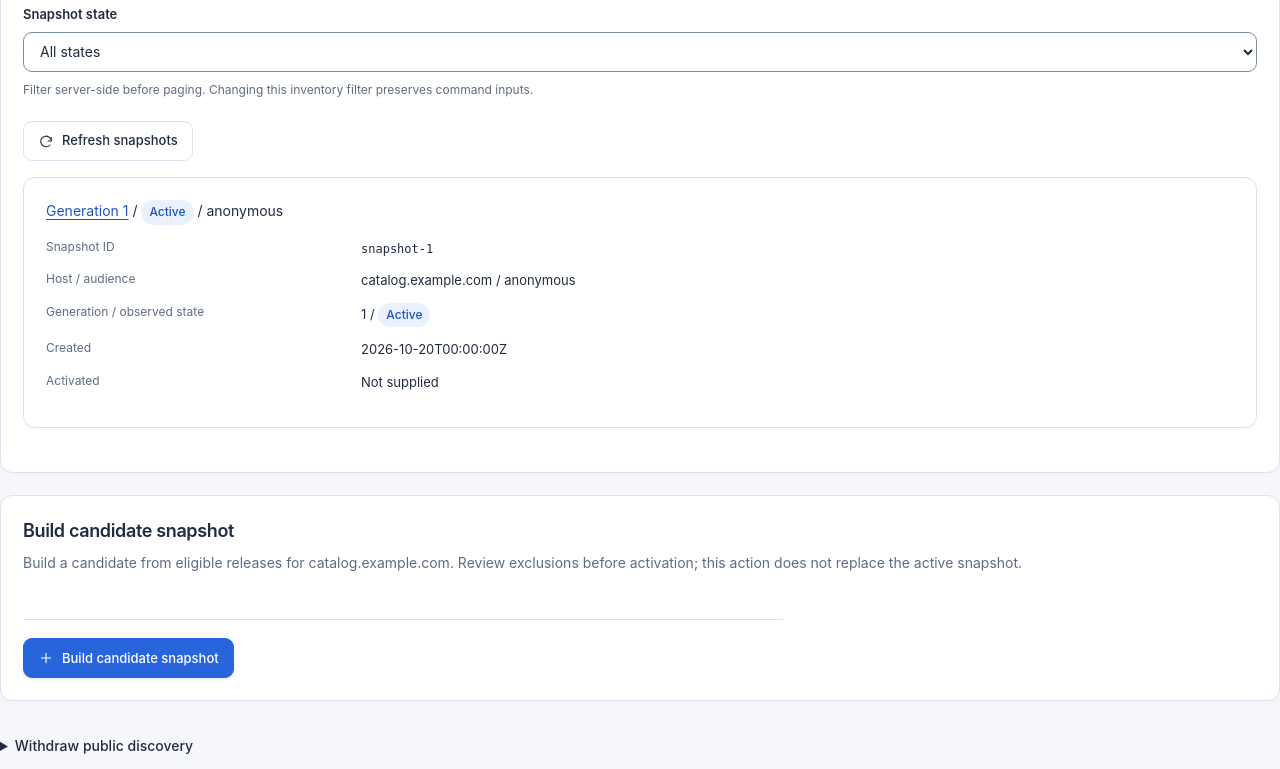
Scenario: retains the host unpublish receipt through failed readback and rearms only after a successful read
(page scrolled)
Expected: the link "Generation 1" is shown, [46, 202, 128, 219]
Click the heading "Withdraw public discovery": (104, 746) [15, 737, 193, 754]
(page scrolled)
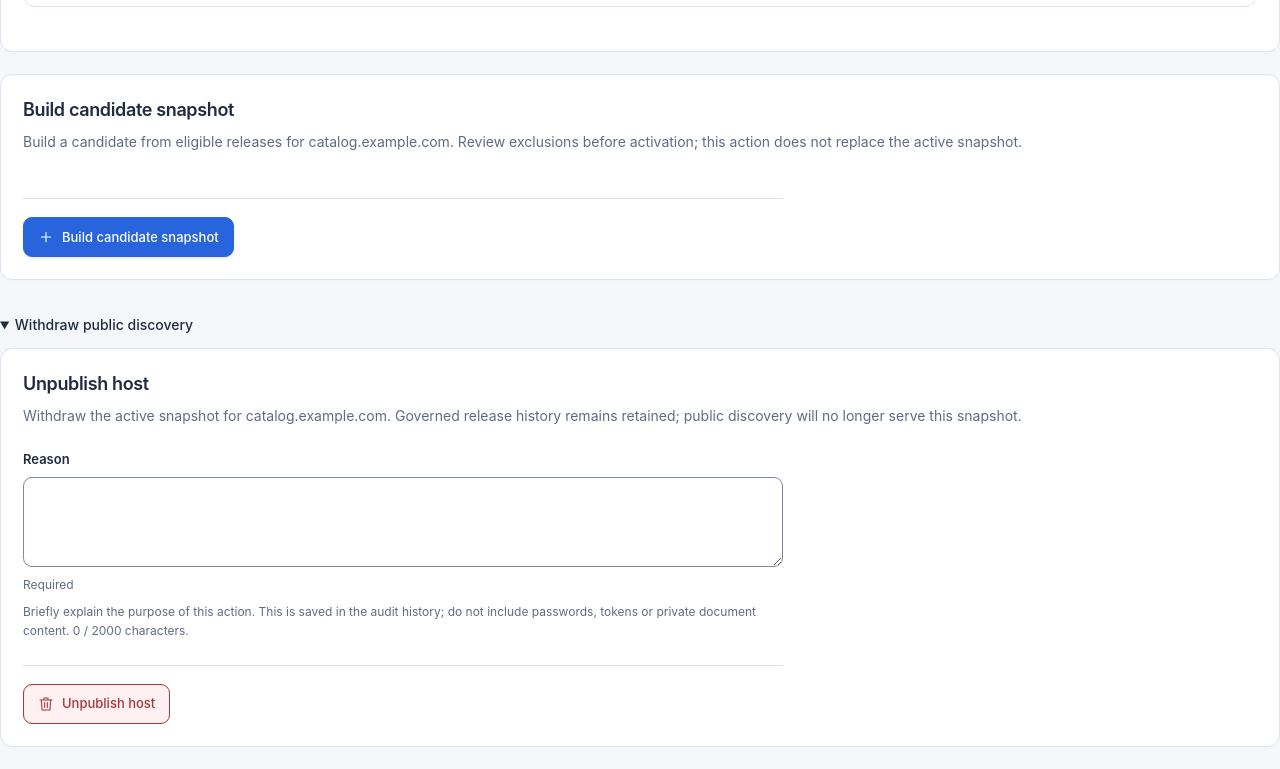
In the text box labelled "Reason": (403, 522) [23, 477, 783, 567], type "Keep the host withdrawal reason"
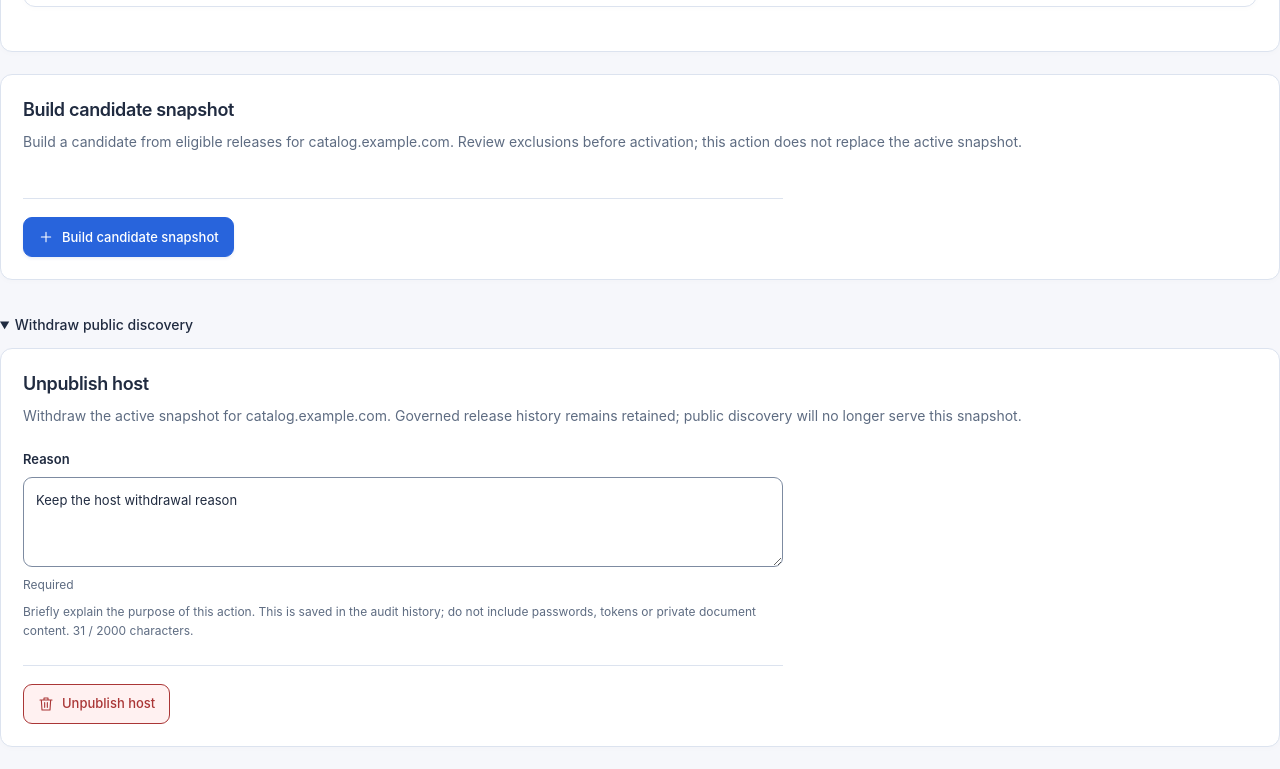
Click the button "Unpublish host": (97, 704) [23, 684, 170, 724]
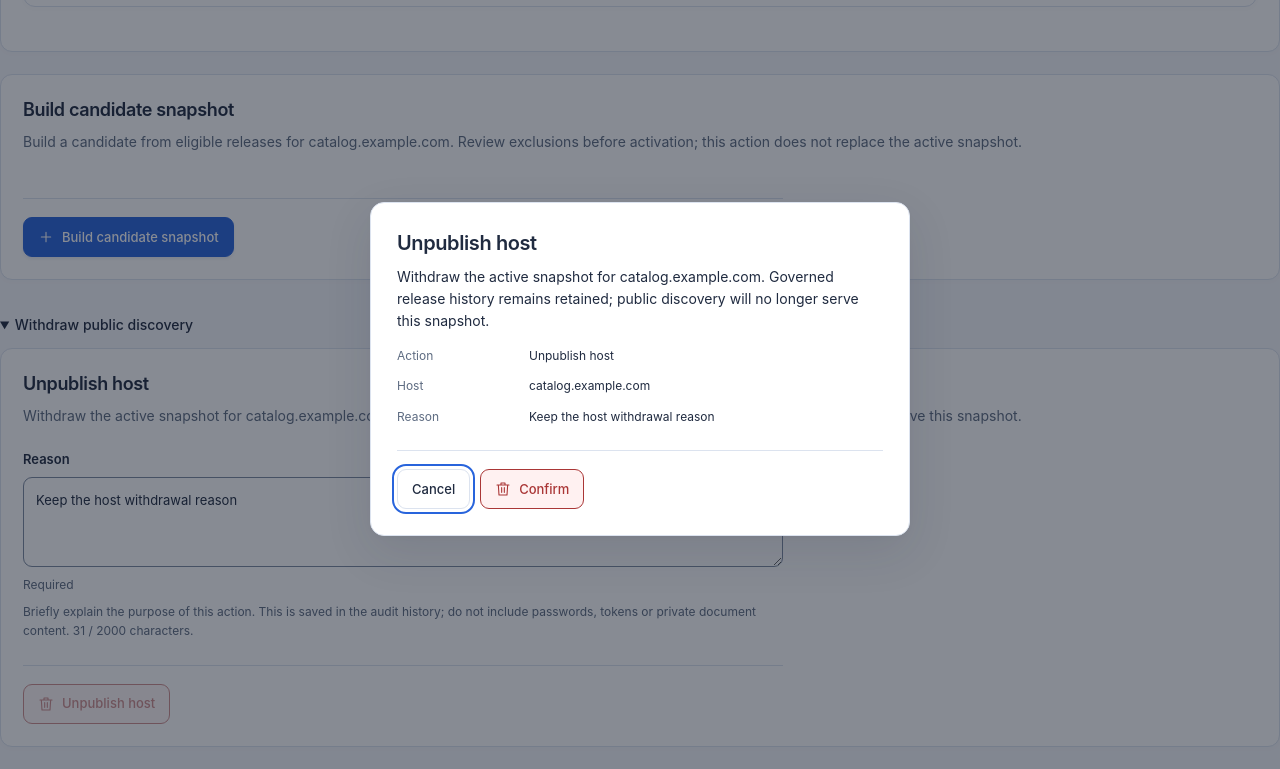
Click the button "Confirm": (532, 490) [480, 470, 584, 510]
(page scrolled)
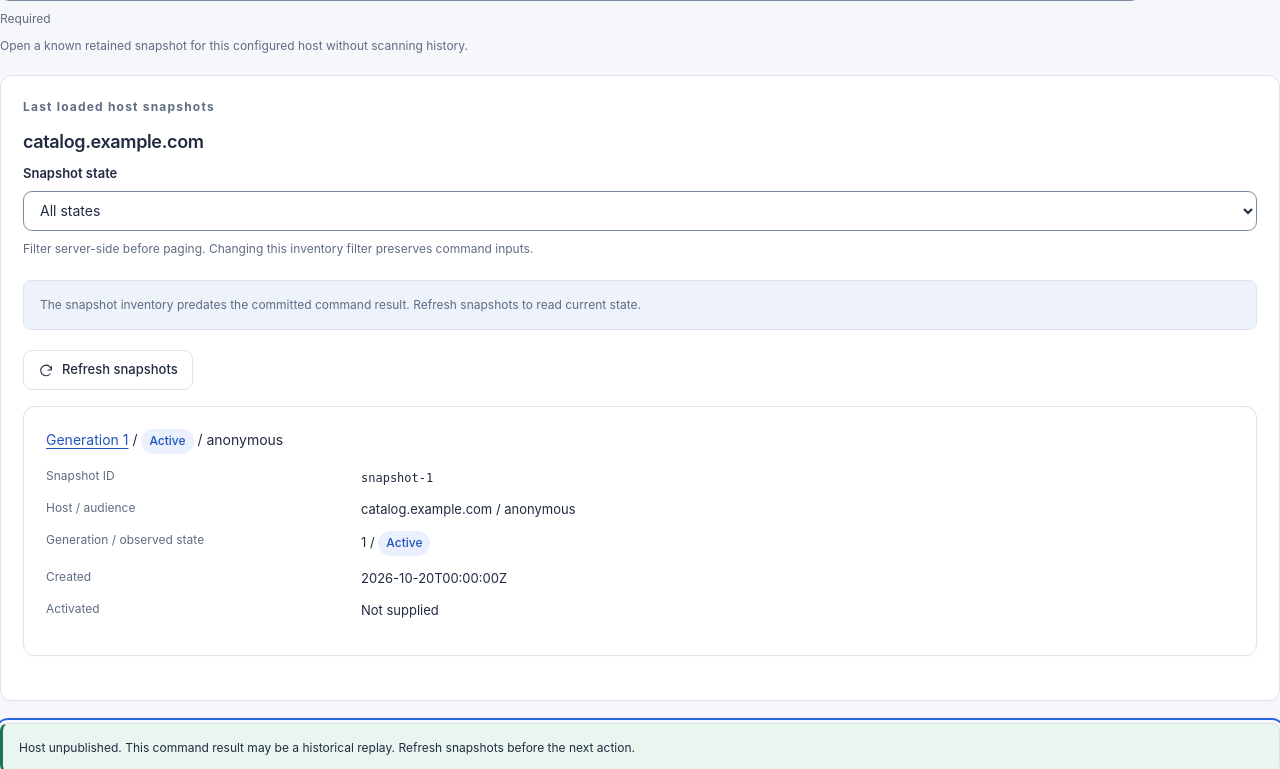
Now the text "Host unpublished." is shown, box [19, 740, 122, 756]
Now the text "snapshot inventory predates" is shown, box [40, 297, 641, 312]
Click the button "Refresh snapshots": (108, 370) [23, 350, 193, 390]
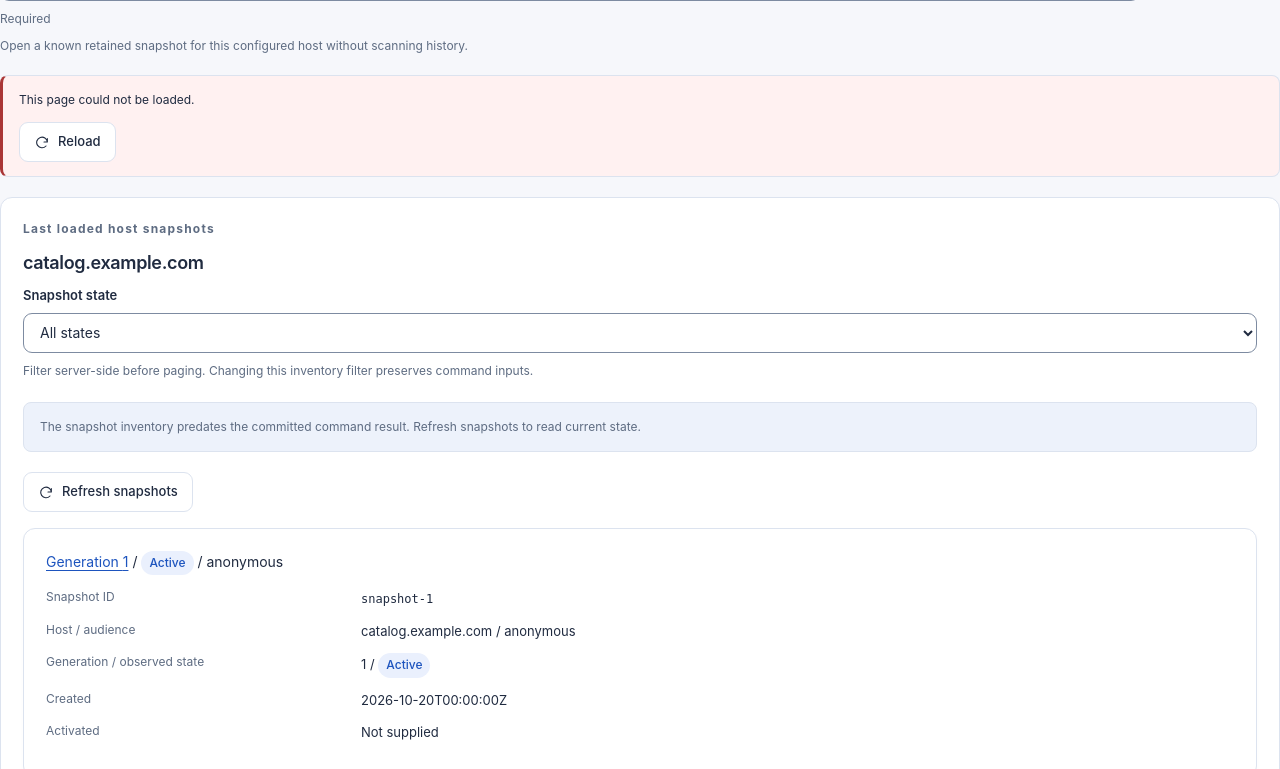
Expected: the link "Generation 1" is shown, [46, 553, 128, 570]
Now the text "snapshot inventory predates" is shown, box [40, 419, 641, 434]
Now the message "This page could not be loaded. Reload" is shown, box [0, 75, 1279, 177]
Click the button "Refresh snapshots": (108, 492) [23, 472, 193, 512]
(page scrolled)
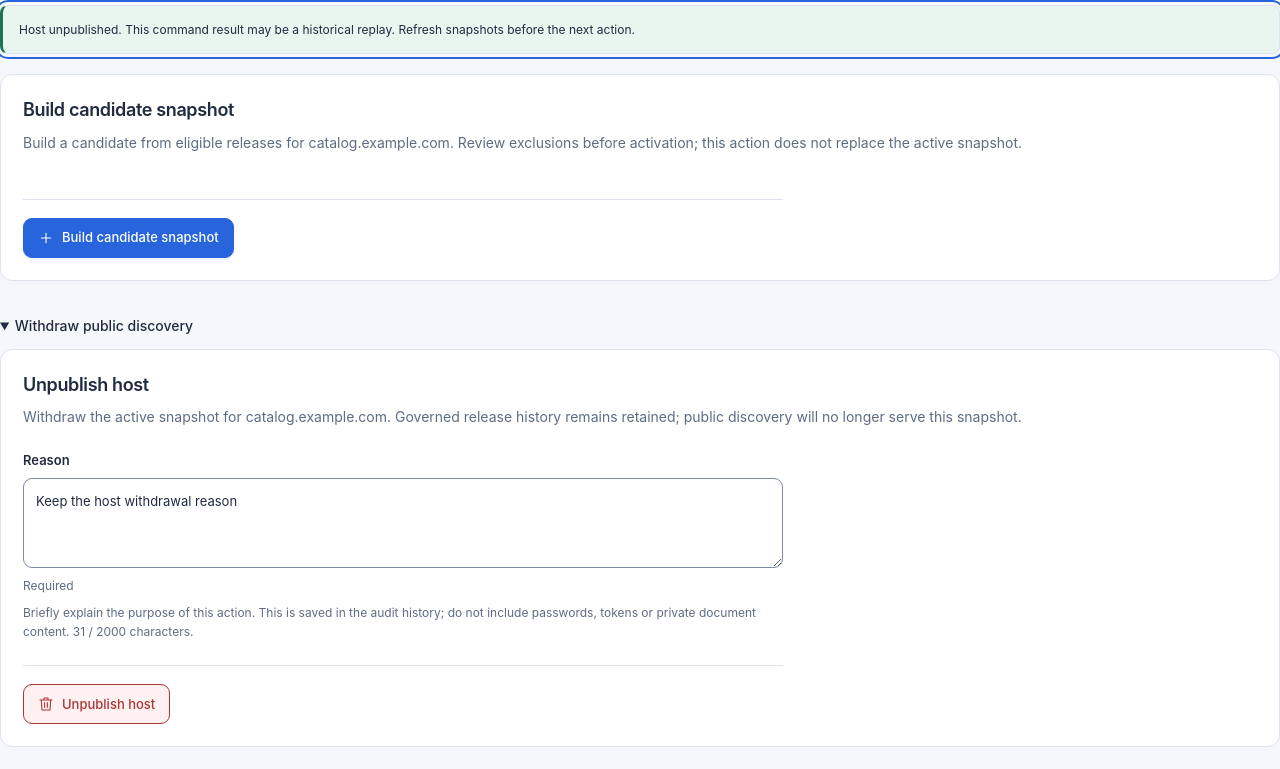
Now the text "Host unpublished." is shown, box [19, 22, 122, 37]
Now the text "snapshot inventory predates" is gone
Now the button "Build candidate snapshot" is enabled, box [23, 218, 234, 258]
